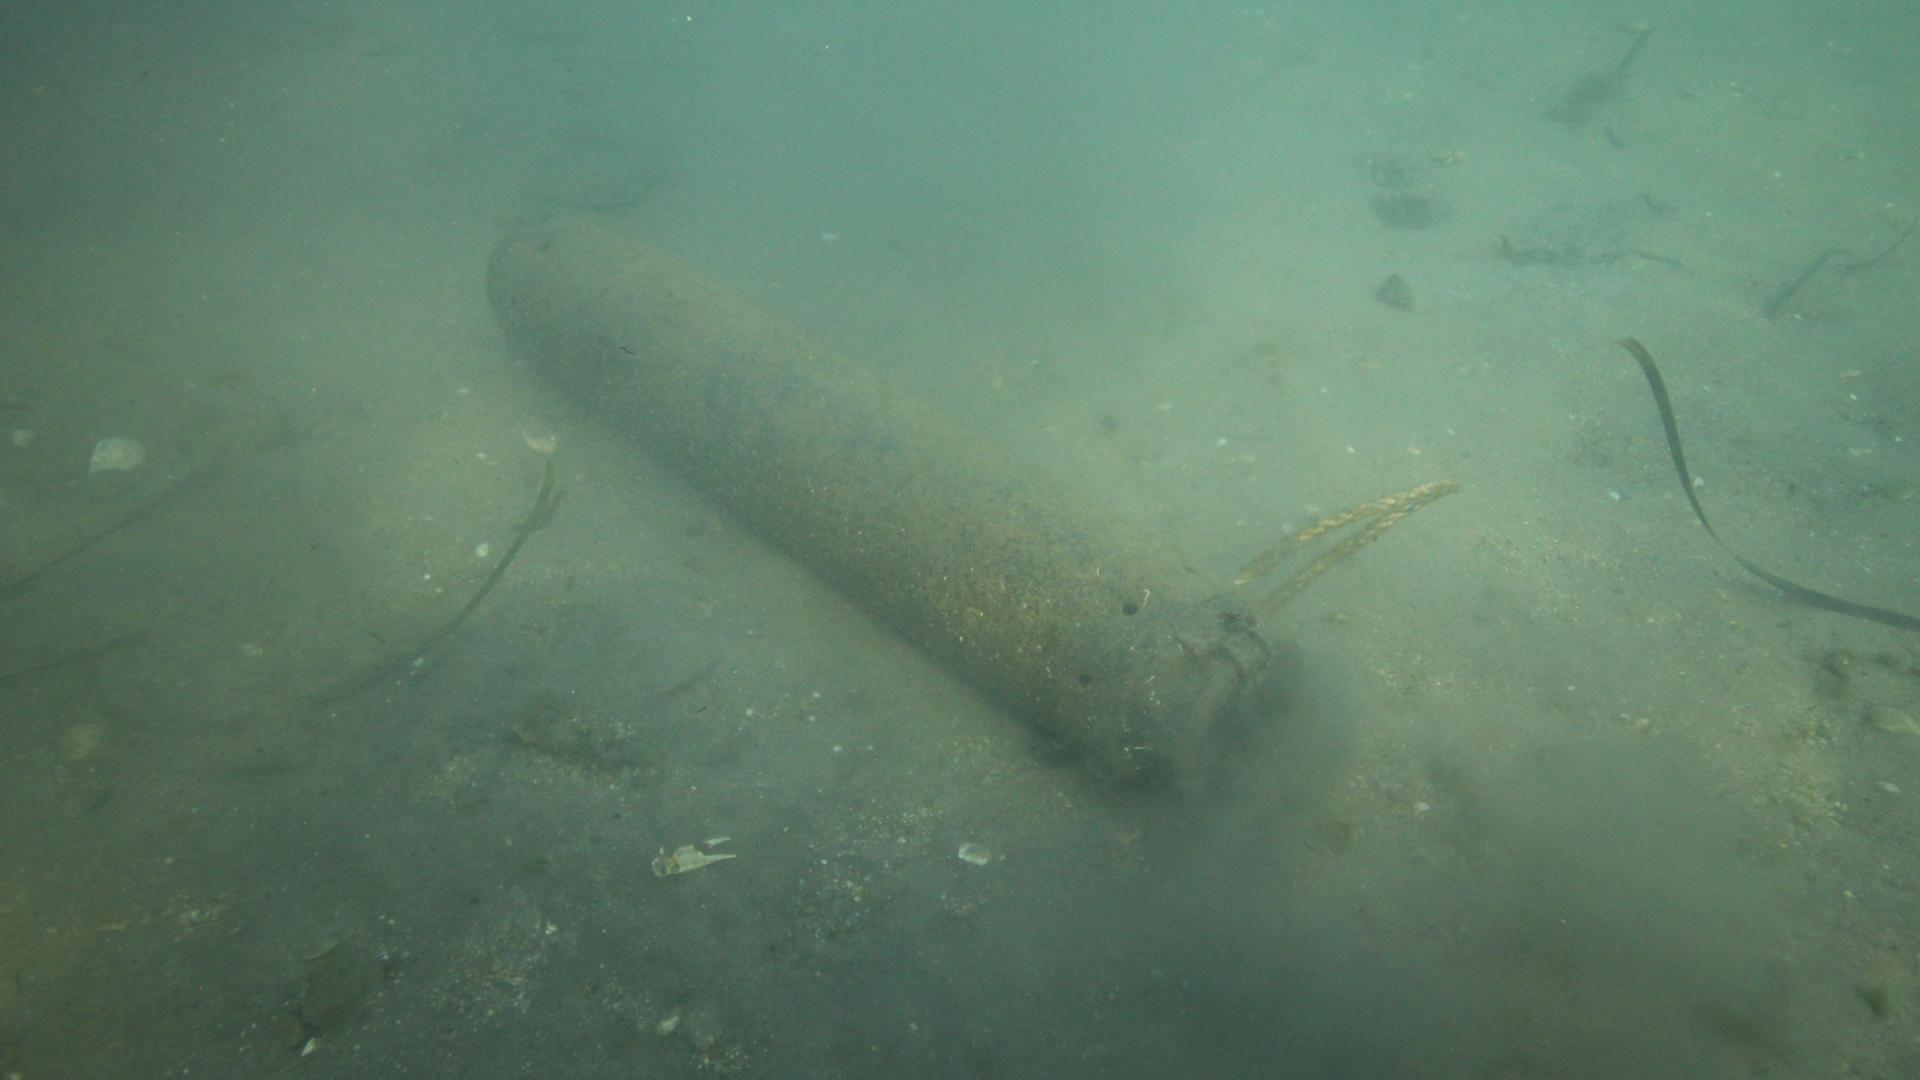eel fish trap: (481, 208, 1303, 808)
rope: (1226, 473, 1458, 618)
